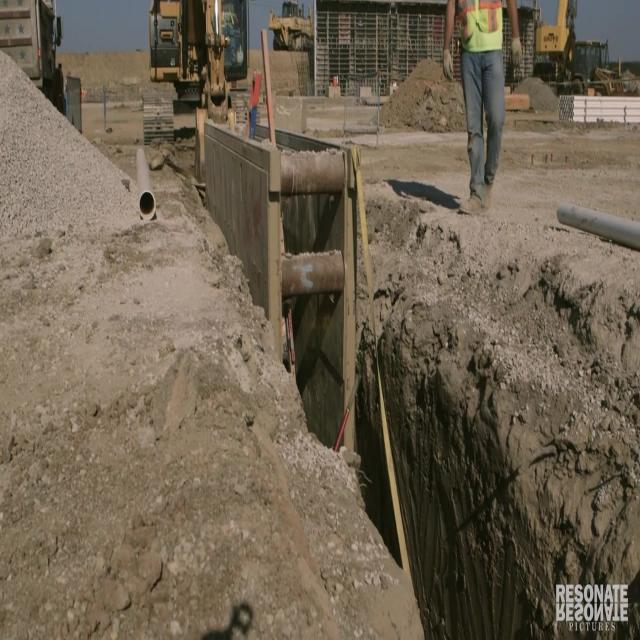Reflective-Jacket: (450, 0, 512, 59)
